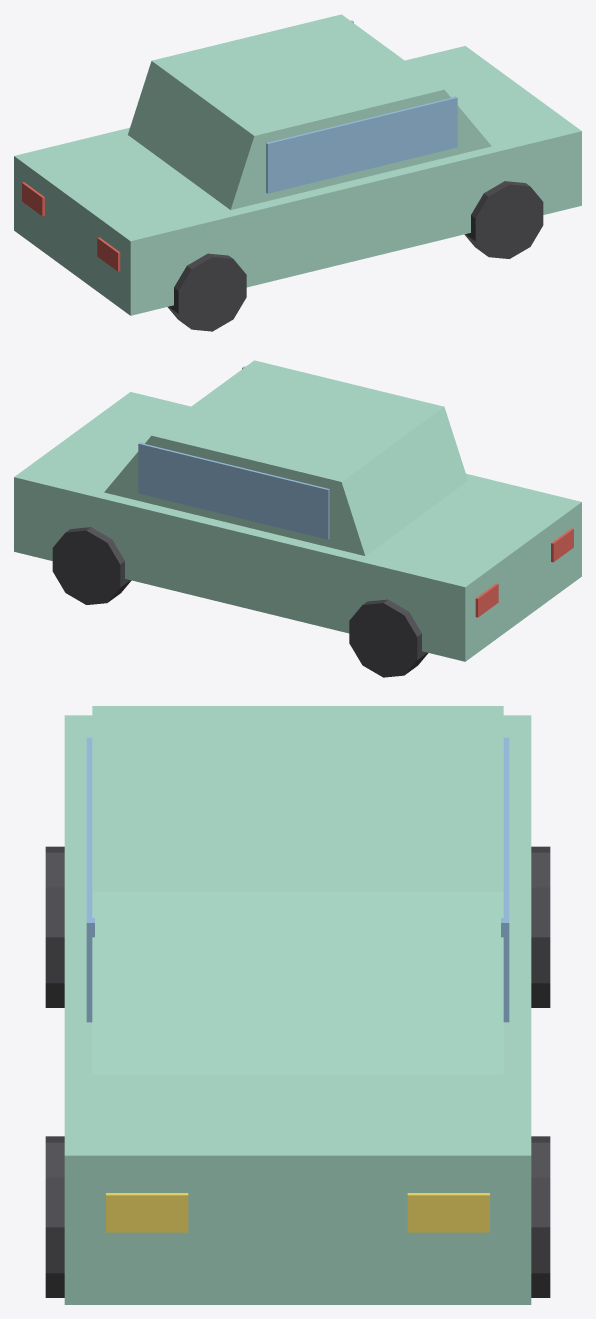
The model's file is city__car_mint.fbx.
The picture shows the model from 3 angles, top to bottom: view 1: azimuth 30°, elevation 25°; view 2: azimuth 150°, elevation 25°; view 3: azimuth 270°, elevation 25°; orthographic projection. The views are drawn at different scales.
Parts seen in each view (by area): view 1: city__car_mint; view 2: city__car_mint; view 3: city__car_mint.
Boxes of the visible parts, x1,y1,x2,y2 form: city__car_mint: (14, 14, 581, 331); city__car_mint: (14, 360, 581, 677); city__car_mint: (45, 706, 550, 1304).
Bounding box in the file's own units: 3.84 × 1.4 × 1.84.
